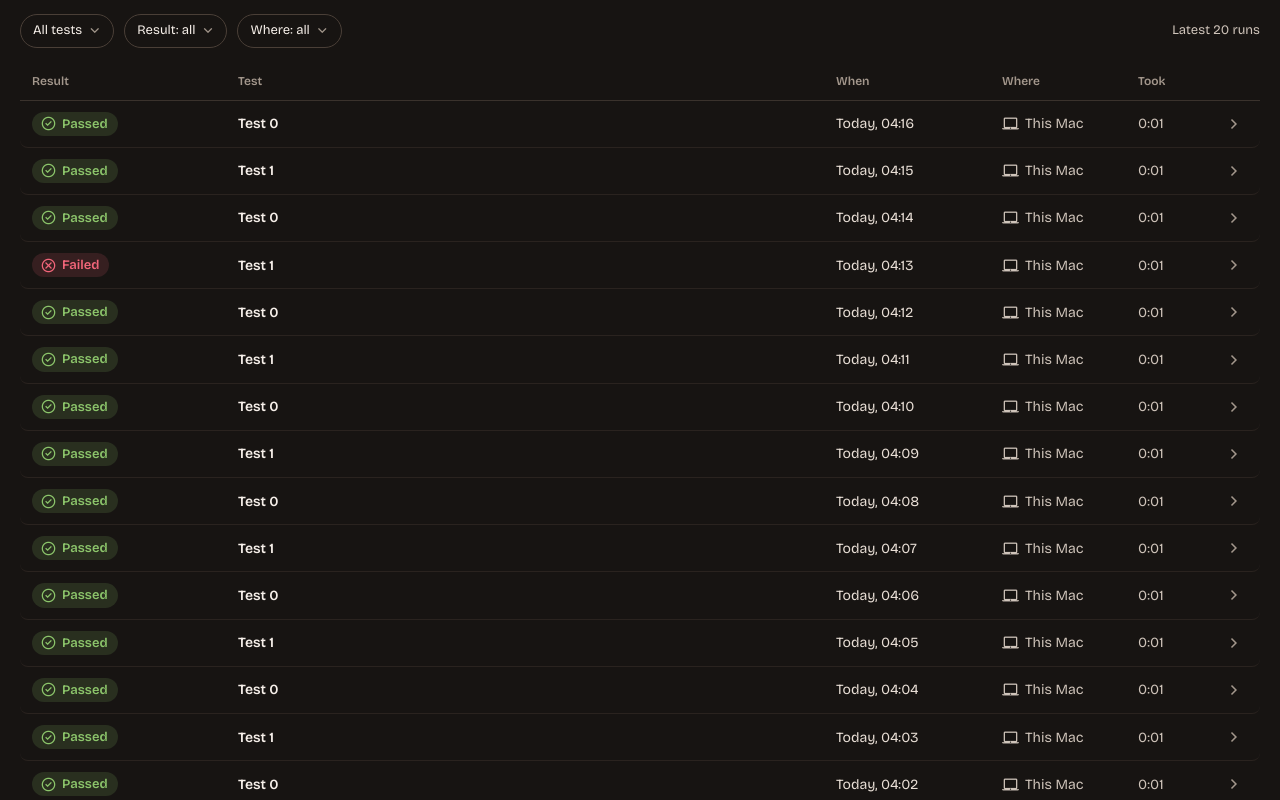
Test case: the Runs tab › says "Latest 20 runs" while there are older ones, and that a filter looks at those only
Check: the text "Latest 20 runs" is shown, box [1172,21,1260,40]
Check: the text "look at the latest" is not shown
Click the button "Result: all" at (176, 31), box [124,14,227,48]
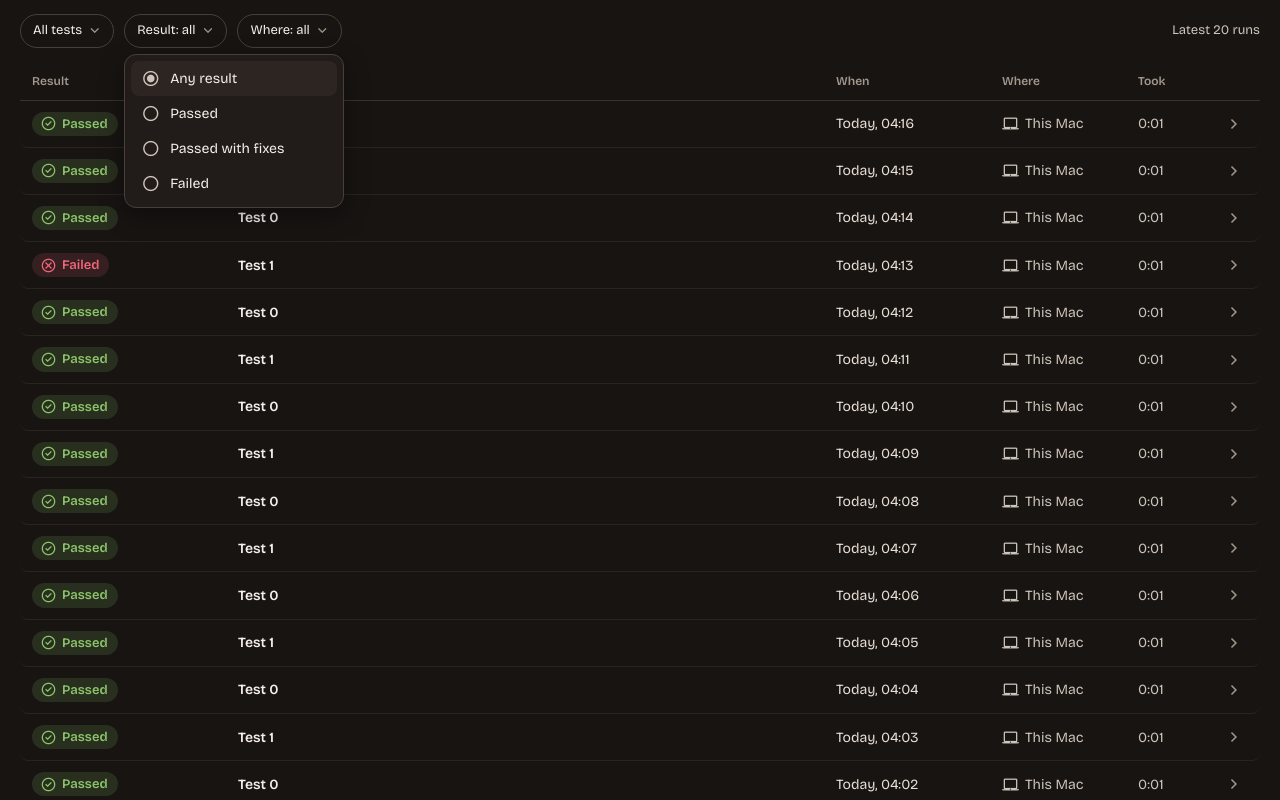
Click the menu item "Failed" at (234, 183), box [131,166,337,200]
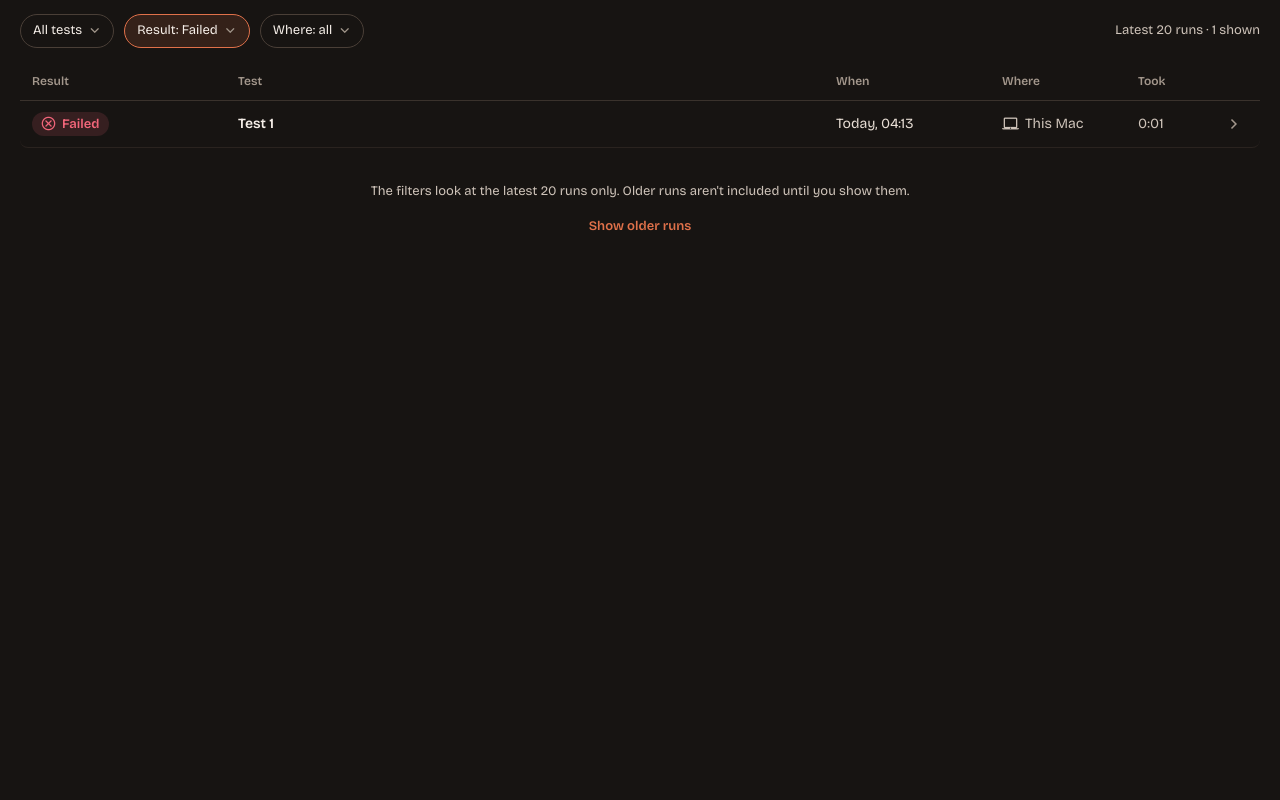
Check: the text "Latest 20 runs · 1 shown" is shown, box [1115,21,1260,40]
Check: the text "The filters look at the latest 20 runs only. Older runs aren't included until you show them." is shown, box [371,183,909,199]
